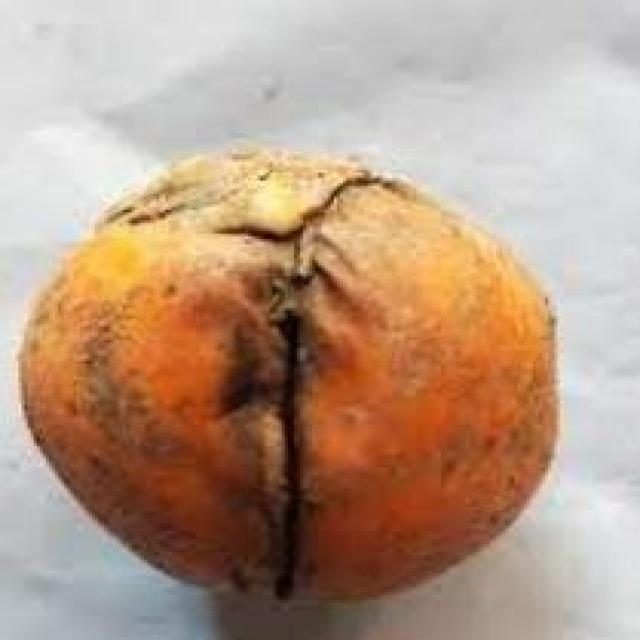damaged: (18, 149, 554, 598)
